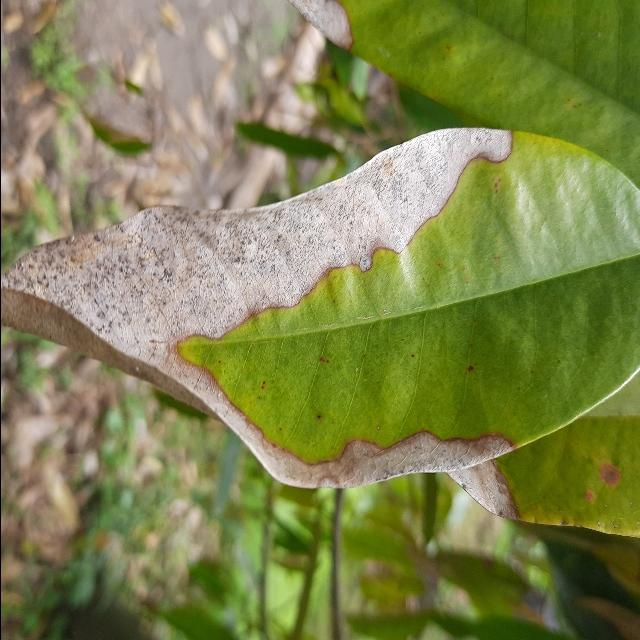Leaf Blight: (0, 117, 640, 548)
